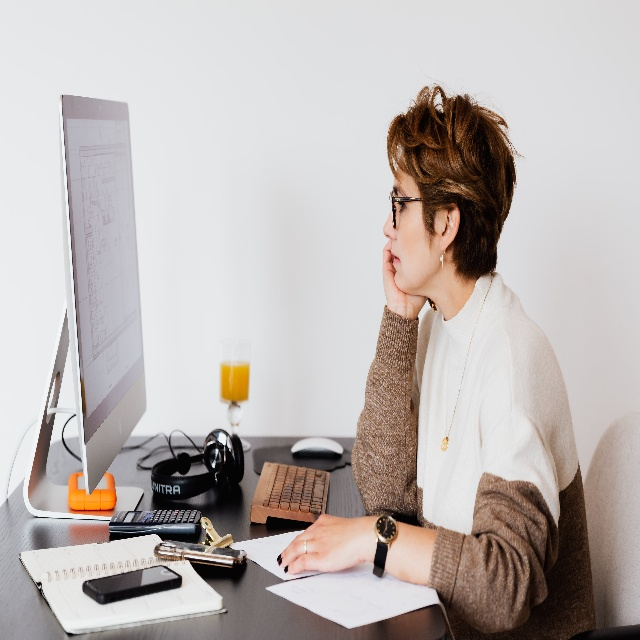Gafas: (388, 185, 425, 229)
Sin_guantes: (277, 511, 374, 576), (383, 239, 430, 319)
